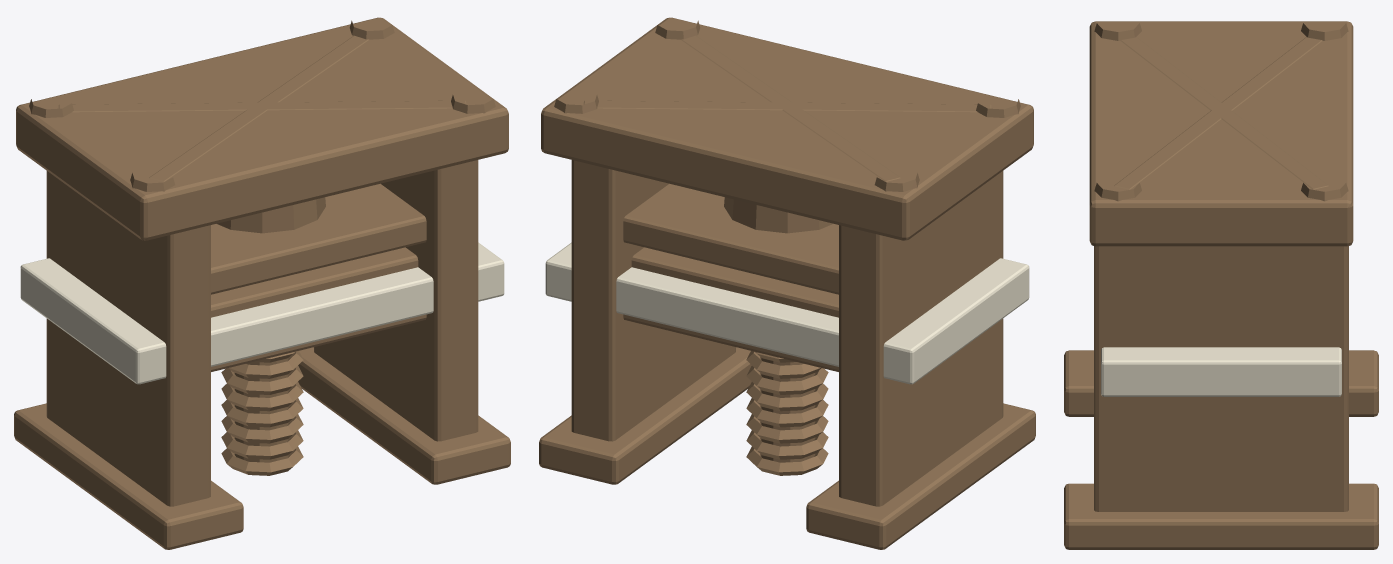
File: book_press.glb
3 renders of one model, left to right at view 1: azimuth 30°, elevation 25°; view 2: azimuth 150°, elevation 25°; view 3: azimuth 270°, elevation 25°, orthographic. The views are drawn at different scales.
Visible parts, largest first — view 1: 112-book-press/0, 112-book-press/1, 112-book-press/screw-left, 112-book-press/screw-right; view 2: 112-book-press/0, 112-book-press/1, 112-book-press/screw-left, 112-book-press/screw-right; view 3: 112-book-press/0, 112-book-press/1, 112-book-press/screw-right, 112-book-press/screw-left.
Boxes of the visible parts, x1=… form: 112-book-press/0: x1=14, y1=17, x2=510, y2=549; 112-book-press/1: x1=20, y1=242, x2=504, y2=384; 112-book-press/screw-left: x1=29, y1=95, x2=495, y2=475; 112-book-press/screw-right: x1=130, y1=20, x2=394, y2=191; 112-book-press/0: x1=539, y1=17, x2=1035, y2=549; 112-book-press/1: x1=545, y1=242, x2=1029, y2=384; 112-book-press/screw-left: x1=655, y1=20, x2=919, y2=475; 112-book-press/screw-right: x1=554, y1=95, x2=1020, y2=117; 112-book-press/0: x1=1064, y1=21, x2=1378, y2=549; 112-book-press/1: x1=1101, y1=347, x2=1341, y2=396; 112-book-press/screw-right: x1=1094, y1=23, x2=1348, y2=201; 112-book-press/screw-left: x1=1094, y1=23, x2=1348, y2=201.
Bounding box in the file's own units: 1 × 0.9421 × 0.7254.
